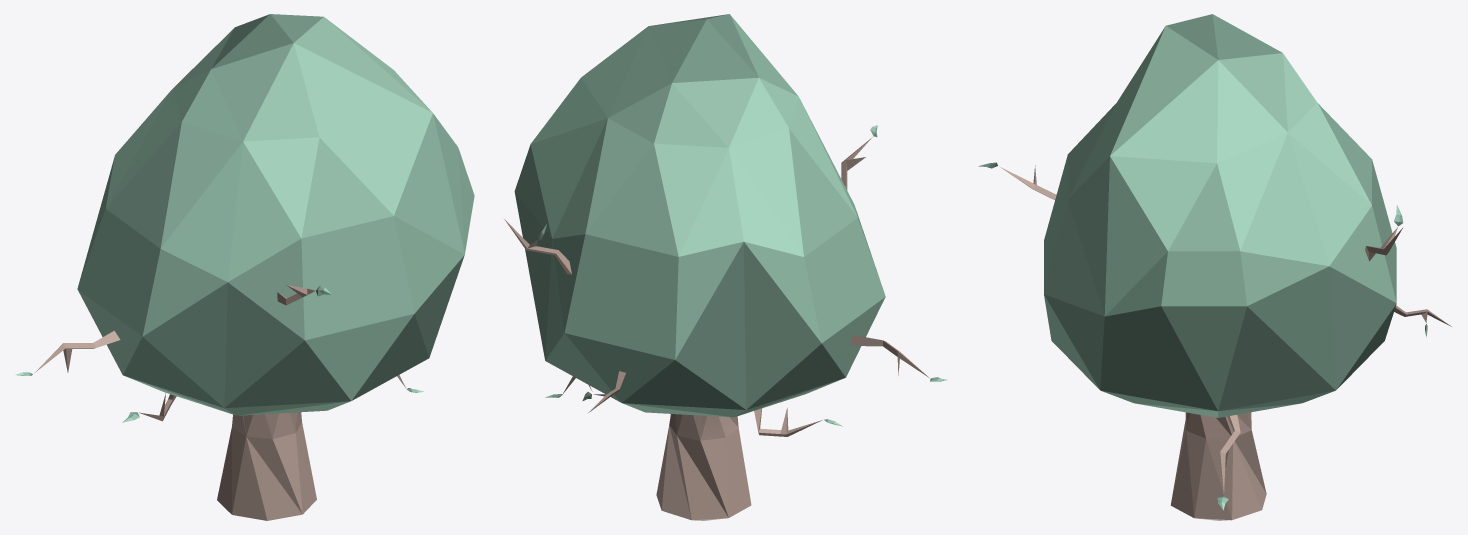
The model's file is TreeOak.fbx.
3 renders of one model, left to right at view 1: azimuth 30°, elevation 25°; view 2: azimuth 150°, elevation 25°; view 3: azimuth 270°, elevation 25°, orthographic.
Parts seen in each view (by area): view 1: TreeOak; view 2: TreeOak; view 3: TreeOak.
Boxes of the visible parts, bbox=[...] form: TreeOak: bbox=[15, 14, 474, 520]; TreeOak: bbox=[504, 14, 947, 520]; TreeOak: bbox=[978, 14, 1451, 520].
Bounding box in the file's own units: 9.82 × 11.11 × 9.45.
